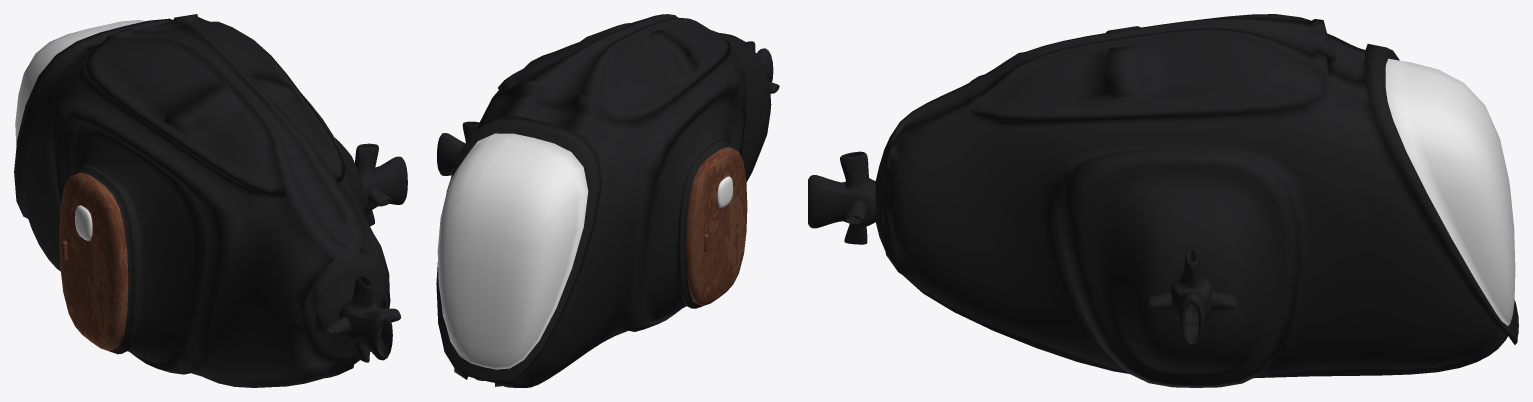
File: SpaceShip_unity.fbx
The picture shows the model from 3 angles, left to right: view 1: azimuth 30°, elevation 25°; view 2: azimuth 150°, elevation 25°; view 3: azimuth 270°, elevation 25°; orthographic projection. The views are drawn at different scales.
Parts seen in each view (by area): view 1: SpaceShip, Door; view 2: SpaceShip, Door; view 3: SpaceShip.
Part boxes in pixels (x1,y1,x2,y2): SpaceShip: (14, 14, 407, 387); Door: (59, 172, 128, 350); SpaceShip: (436, 14, 779, 387); Door: (685, 147, 747, 305); SpaceShip: (808, 14, 1518, 387).
Bounding box in the file's own units: 477 × 433 × 822.
